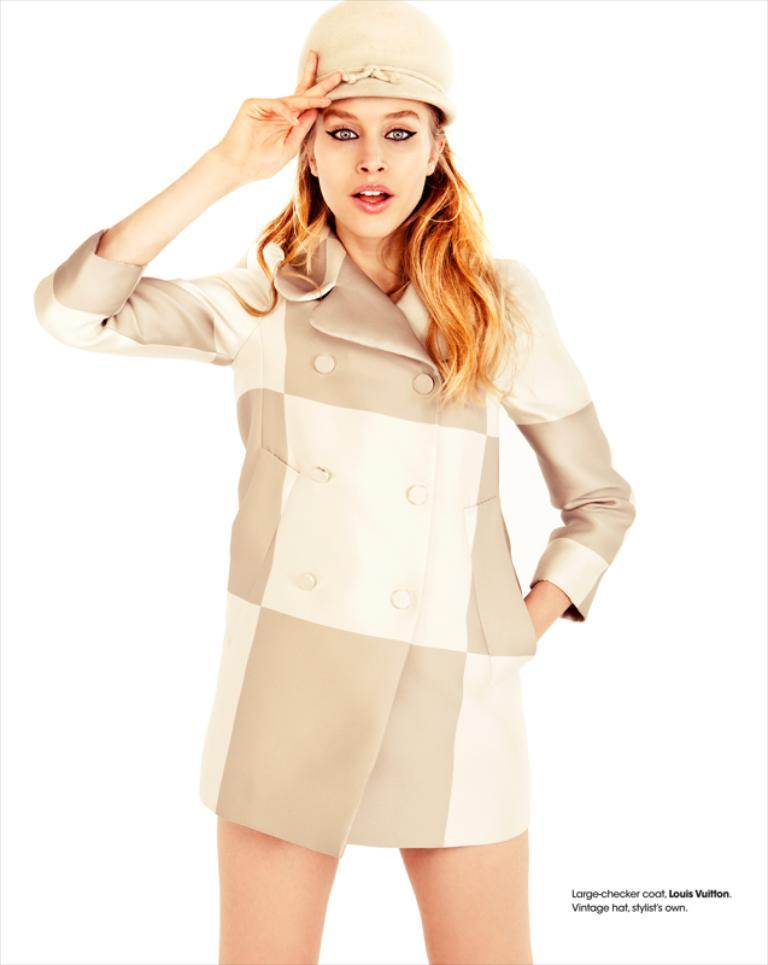Hat: (299, 0, 457, 126)
